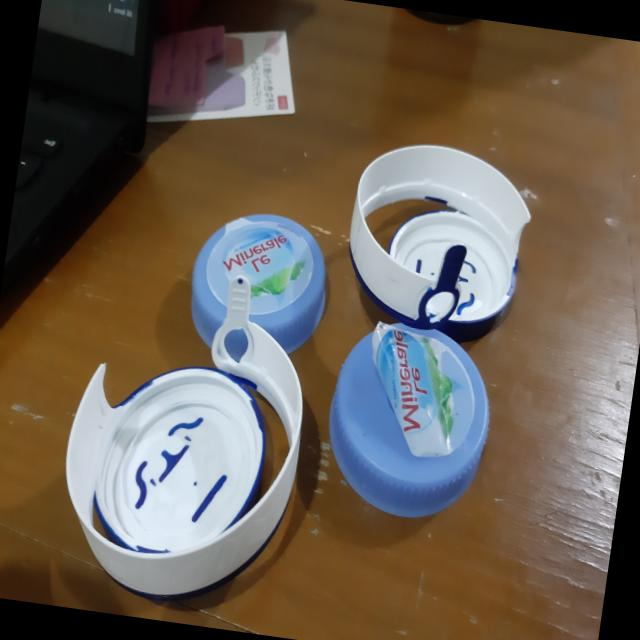TutupGalon: (45, 88, 546, 640)
